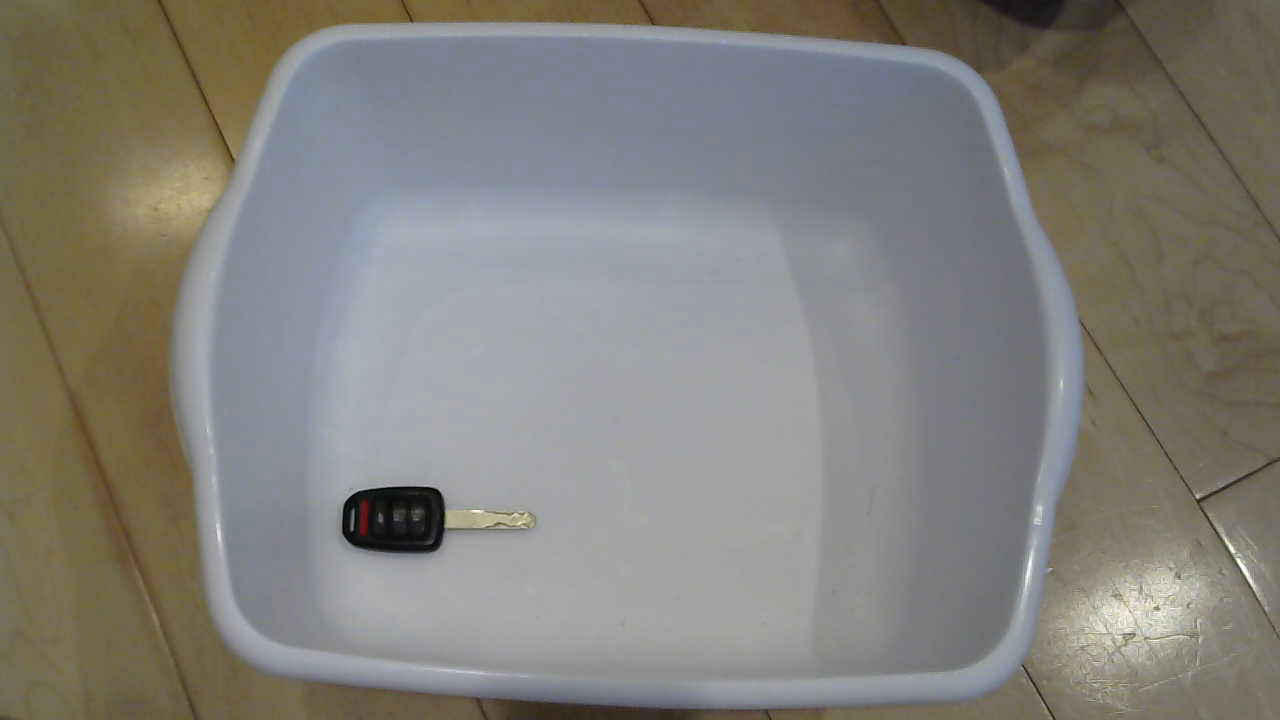key: (334, 482, 560, 578)
